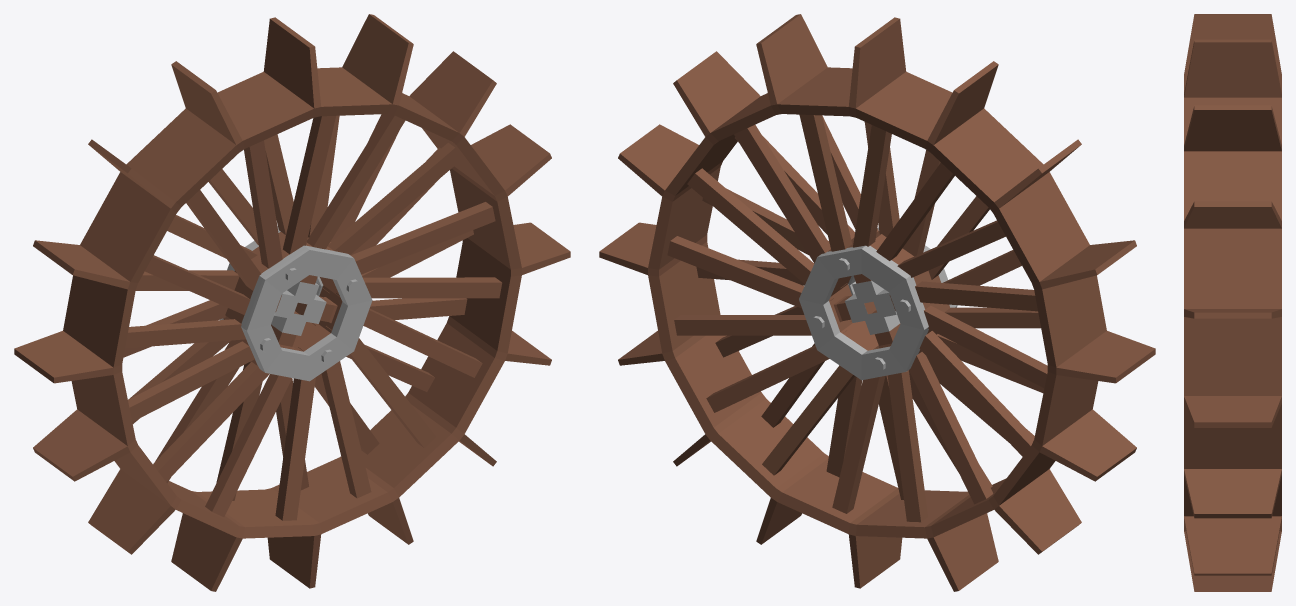
The model's file is Rodinha.fbx.
The picture shows the model from 3 angles, left to right: view 1: azimuth 30°, elevation 25°; view 2: azimuth 150°, elevation 25°; view 3: azimuth 270°, elevation 25°; orthographic projection. The views are drawn at different scales.
Parts seen in each view (by area): view 1: Circle; view 2: Circle; view 3: Circle.
Boxes of the visible parts, x1,y1,x2,y2 form: Circle: (14, 14, 570, 591); Circle: (599, 14, 1155, 591); Circle: (1184, 14, 1281, 591).
Size of the model in its own units: 252 by 252 by 42.7.
